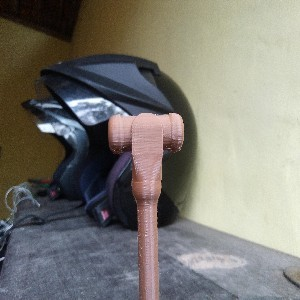palu: (107, 111, 184, 300)
